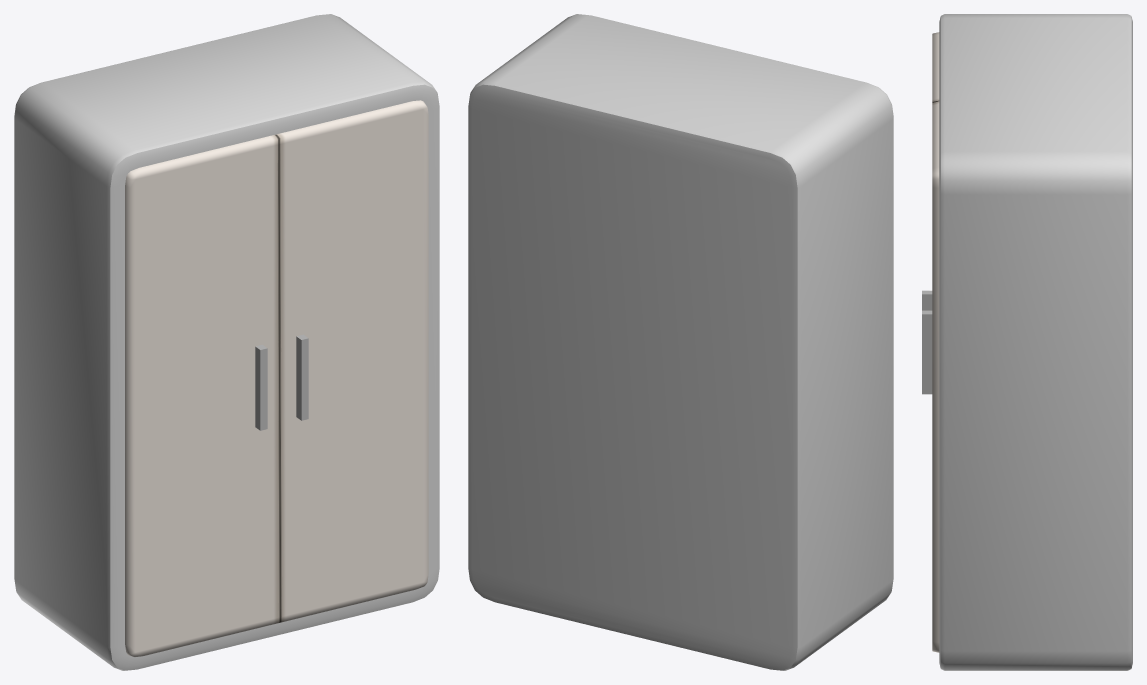
Rendered from 3D_Prop_Closet.fbx.
3 renders of one model, left to right at view 1: azimuth 30°, elevation 25°; view 2: azimuth 150°, elevation 25°; view 3: azimuth 270°, elevation 25°, orthographic.
Visible parts, largest first — view 1: Closet; view 2: Closet; view 3: Closet.
Part boxes in pixels (box(x1,y1,x2,y2)): Closet: box(14, 14, 439, 670); Closet: box(468, 14, 893, 670); Closet: box(922, 14, 1132, 670).
Size of the model in its own units: 467 by 698 by 259.
2 materials, 1 textured.
